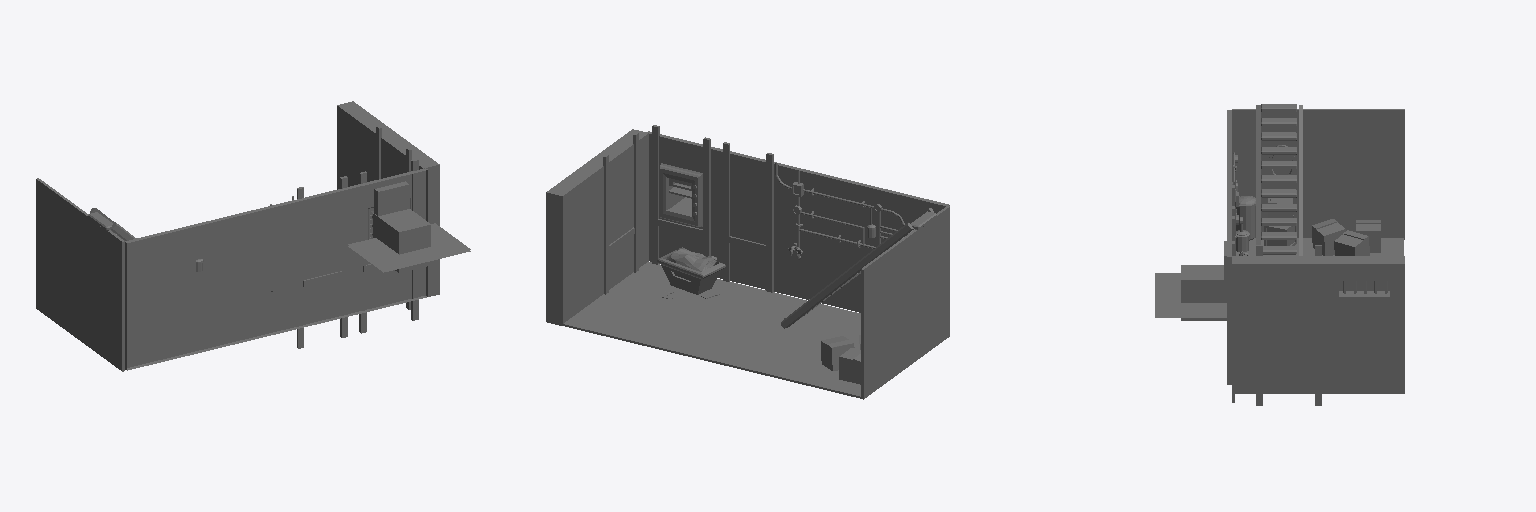
The model's file is sotano_N.obj.
The picture shows the model from 3 angles: view 1: azimuth 30°, elevation 25°; view 2: azimuth 150°, elevation 25°; view 3: azimuth 270°, elevation 25°; orthographic projection.
Visible parts, largest first — view 1: Sotano_N pCube12, Sotano_N pCube10, Sotano_N PAREDOCULTA, Sotano_N PAREDOCULTA1, Sotano_N pCube14, Sotano_N pCube13, Sotano_N pCube3, Sotano_N pCube2, Sotano_N pCube5 group1, Sotano_N group1 pCube7; view 2: Sotano_N pCube12, Sotano_N pCube9, Sotano_N PAREDOCULTA1, Sotano_N pCube10, Sotano_N pCube30, Sotano_N pCube8, Sotano_N pCube2, Sotano_N group1 pCube7, Sotano_N pCube3, Sotano_N pCube5 group1, Sotano_N props:polySurface1 polySurface8, Sotano_N PAREDOCULTA (+4 smaller); view 3: Sotano_N PAREDOCULTA1, Sotano_N pCube10, Sotano_N pCube12, Sotano_N pCube14, Sotano_N pCube9, Sotano_N props:polySurface1 polySurface9, Sotano_N props:polySurface1 polySurface8, Sotano_N pCube31, pCylinder1 Sotano_N, Sotano_N pCube30, Sotano_N props:polySurface1 polySurface7.
Part boxes in pixels (bbox=[...]): Sotano_N pCube12: bbox=[125, 168, 430, 370]; Sotano_N pCube10: bbox=[36, 178, 124, 371]; Sotano_N PAREDOCULTA: bbox=[337, 105, 425, 295]; Sotano_N PAREDOCULTA1: bbox=[337, 101, 439, 296]; Sotano_N pCube14: bbox=[348, 223, 470, 272]; Sotano_N pCube13: bbox=[374, 181, 409, 215]; Sotano_N pCube3: bbox=[340, 176, 347, 337]; Sotano_N pCube2: bbox=[297, 187, 303, 348]; Sotano_N pCube5 group1: bbox=[359, 171, 366, 333]; Sotano_N group1 pCube7: bbox=[411, 159, 418, 320]; Sotano_N pCube12: bbox=[647, 131, 949, 312]; Sotano_N pCube9: bbox=[563, 262, 860, 398]; Sotano_N PAREDOCULTA1: bbox=[546, 129, 648, 325]; Sotano_N pCube10: bbox=[861, 206, 949, 399]; Sotano_N pCube30: bbox=[781, 222, 913, 328]; Sotano_N pCube8: bbox=[657, 250, 725, 294]; Sotano_N pCube2: bbox=[766, 153, 773, 292]; Sotano_N group1 pCube7: bbox=[652, 125, 659, 264]; Sotano_N pCube3: bbox=[723, 142, 729, 281]; Sotano_N pCube5 group1: bbox=[703, 137, 710, 256]; Sotano_N props:polySurface1 polySurface8: bbox=[821, 336, 854, 370]; Sotano_N PAREDOCULTA: bbox=[560, 136, 645, 325]; Sotano_N PAREDOCULTA1: bbox=[1232, 256, 1404, 393]; Sotano_N pCube10: bbox=[1232, 109, 1404, 239]; Sotano_N pCube12: bbox=[1181, 110, 1231, 384]; Sotano_N pCube14: bbox=[1155, 273, 1226, 317]; Sotano_N pCube9: bbox=[1236, 238, 1403, 255]; Sotano_N props:polySurface1 polySurface9: bbox=[1312, 219, 1345, 255]; Sotano_N props:polySurface1 polySurface8: bbox=[1334, 230, 1369, 255]; Sotano_N pCube31: bbox=[1256, 105, 1260, 244]; pCylinder1 Sotano_N: bbox=[1236, 196, 1255, 240]; Sotano_N pCube30: bbox=[1299, 105, 1302, 255]; Sotano_N props:polySurface1 polySurface7: bbox=[1356, 220, 1380, 252].
Bounding box in the file's own units: 66.89 × 31.98 × 45.21.